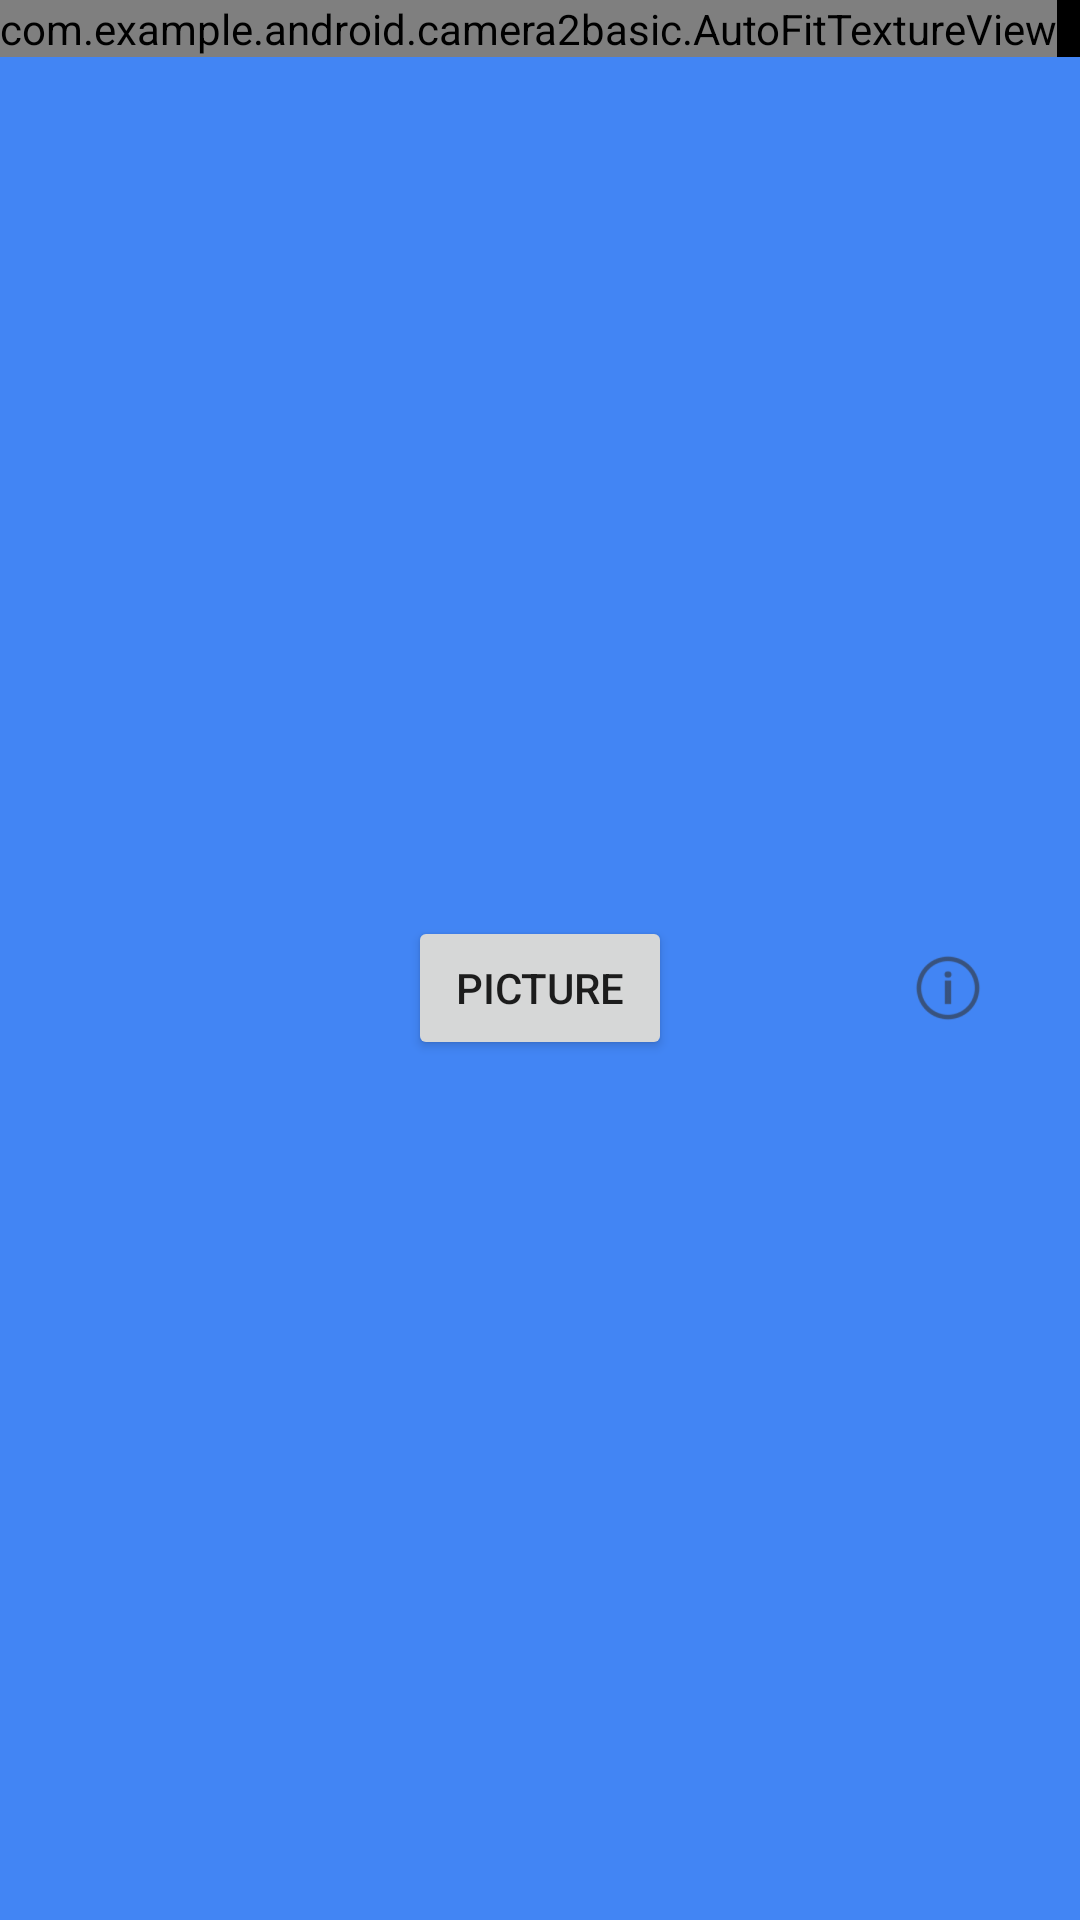

Point at icon controls on the screen. Image size 1080*1920, points as [x,y].
Info: [948,988]
